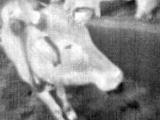eye: (59, 41, 78, 53)
